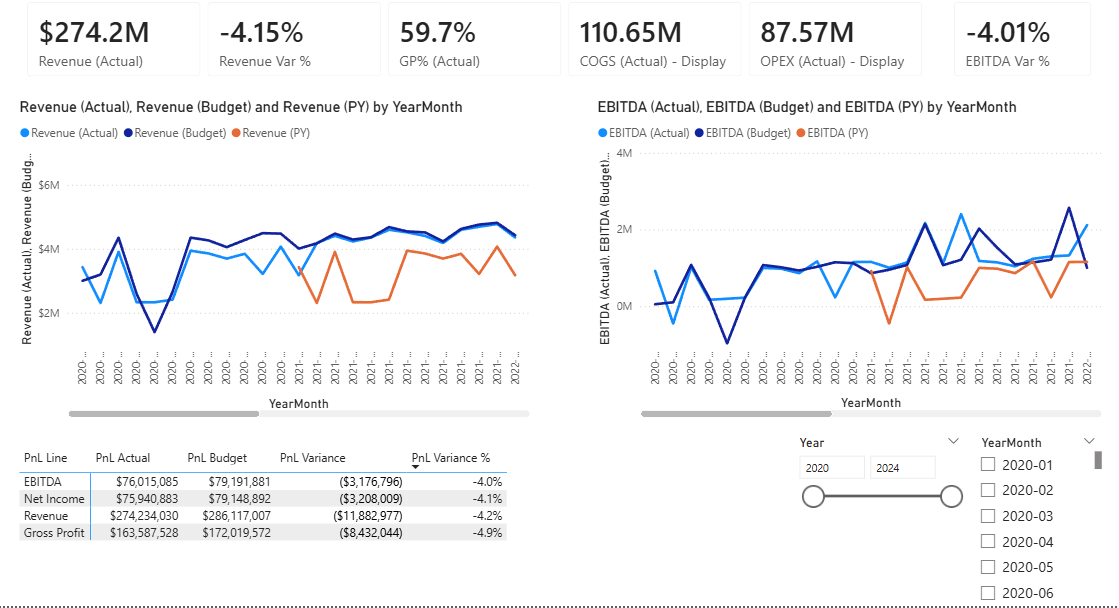

The dashboard page shown, as its layout file describes it:
{"tool":"powerbi","page":{"name":"02_Finance Dashboard","canvas":[1280,720],"ordinal":0},"visuals":[{"type":"cardVisual","fields":{"Data":["Measures (2).Revenue (Actual)","Measures (2).Revenue Var %","Measures (2).GP% (Actual)","Measures (2).COGS (Actual) - Display","Measures (2).OPEX (Actual) - Display"]},"box":[24.9,20.4,1047.9,118.7],"z":0,"group":"g1"},{"type":"lineChart","fields":{"Y":["Measures (2).Revenue (Actual)","Measures (2).Revenue (Budget)","Measures (2).Revenue (PY)"],"Category":["DimDate.MonthEndDate.Variation.Date Hierarchy.Year","DimDate.MonthEndDate.Variation.Date Hierarchy.Quarter","DimDate.MonthEndDate.Variation.Date Hierarchy.Month","DimDate.MonthEndDate.Variation.Date Hierarchy.Day"]},"box":[28.3,139.5,580.5,382.1],"z":0},{"type":"lineChart","fields":{"Y":["Measures (2).EBITDA (Actual)","Measures (2).EBITDA (Budget)","Measures (2).EBITDA (PY)"],"Category":["DimDate.MonthEndDate.Variation.Date Hierarchy.Year","DimDate.MonthEndDate.Variation.Date Hierarchy.Quarter","DimDate.MonthEndDate.Variation.Date Hierarchy.Month","DimDate.MonthEndDate.Variation.Date Hierarchy.Day"]},"box":[682.3,145.7,579.9,366.3],"z":1000},{"type":"pivotTable","fields":{"Rows":["PnL Layout.PnL Line"],"Values":["Measures (2).PnL Actual","Measures (2).PnL Budget","Measures (2).PnL Variance","Measures (2).PnL Variance %"]},"box":[27.8,536.8,580,168],"z":2000},{"type":"slicer","fields":{"Values":["DimDate.Year"]},"box":[902.9,521.8,205.8,197.9],"z":3000},{"type":"slicer","fields":{"Values":["DimDate.YearMonth"]},"box":[1108.7,521.8,153.6,197.9],"z":4000},{"type":"actionButton","box":[0,0,52,39.6],"z":5000},{"type":"group","id":"g1","title":"Group 1","box":[24.9,20.4,1237,118.7],"z":6000},{"type":"cardVisual","fields":{"Data":["Measures (2).EBITDA Var %"]},"box":[1072.8,20.4,189.1,118.7],"z":7001,"group":"g1"}]}

Visuals, with their boxes on the page's 1280x720 design canvas (x1, y1, x2, y2). These are canvas units, not pixel positions in the 1119x608 screenshot, which may show the page scaled, cropped or inside an application window:
cardVisual - Measures (2).Revenue (Actual) x Measures (2).Revenue Var %: (25, 20, 1073, 139)
lineChart - Measures (2).Revenue (Actual) x Measures (2).Revenue (Budget): (28, 140, 609, 522)
lineChart - Measures (2).EBITDA (Actual) x Measures (2).EBITDA (Budget): (682, 146, 1262, 512)
pivotTable - PnL Layout.PnL Line x Measures (2).PnL Actual: (28, 537, 608, 705)
slicer - DimDate.Year: (903, 522, 1109, 720)
slicer - DimDate.YearMonth: (1109, 522, 1262, 720)
actionButton: (0, 0, 52, 40)
"Group 1" group: (25, 20, 1262, 139)
cardVisual - Measures (2).EBITDA Var %: (1073, 20, 1262, 139)
